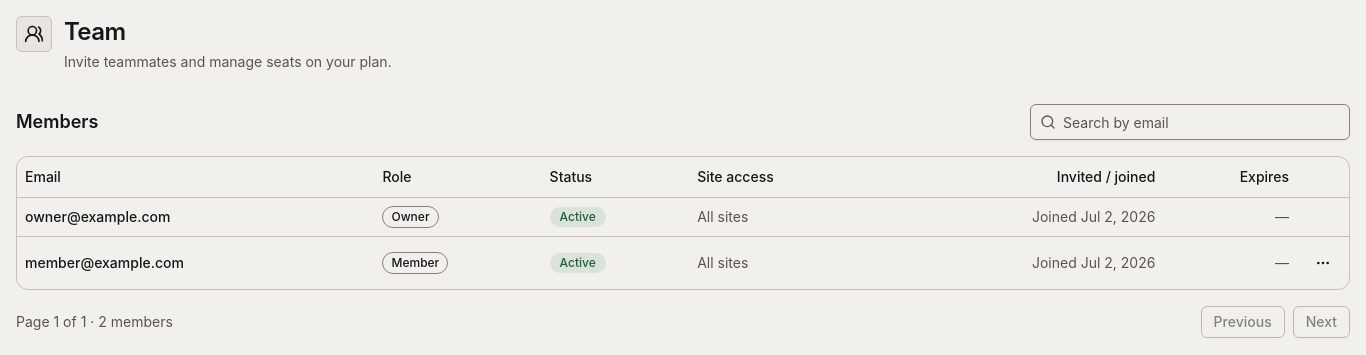
roster navigation and self-service › limits a plain member to leaving their own row and hides invitation controls
Click the button with test id "member-actions-m-1": (1323, 262) [1305,244,1341,280]
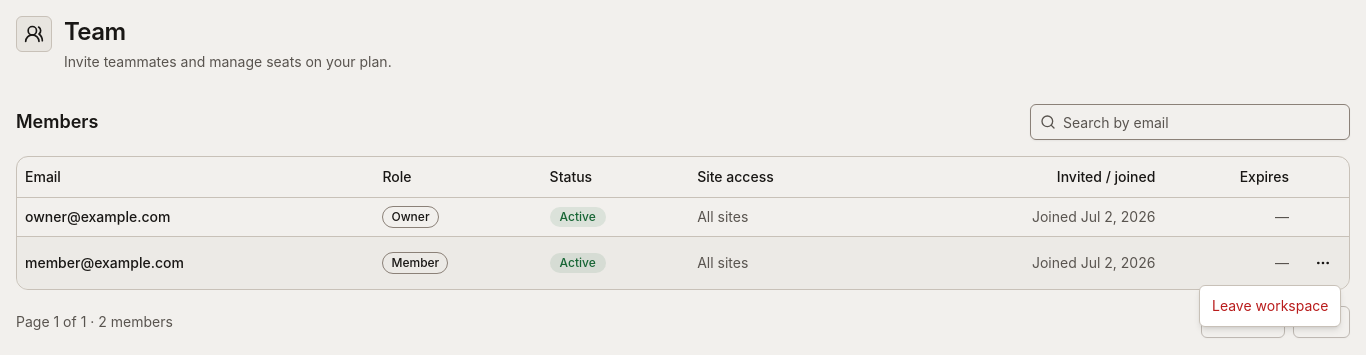
Expected: the menu item "Leave workspace" is shown, [1212,297,1328,314]
